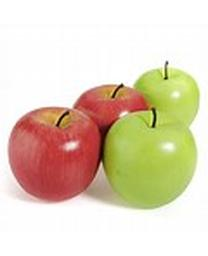apple: (103, 109, 197, 210), (8, 107, 102, 203), (133, 61, 200, 130), (74, 83, 149, 137)
